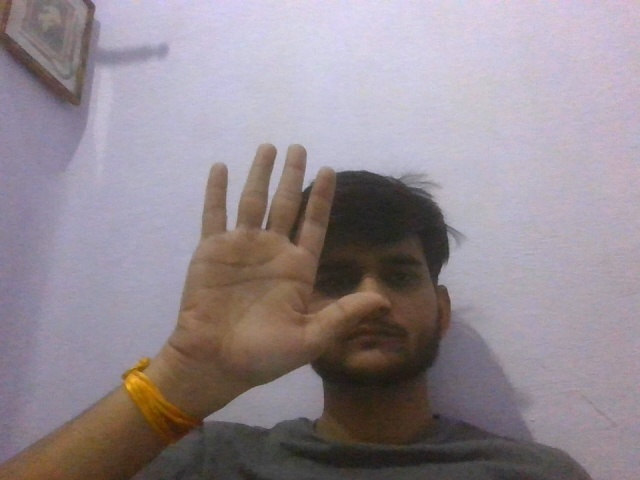hello: (160, 135, 390, 392)
